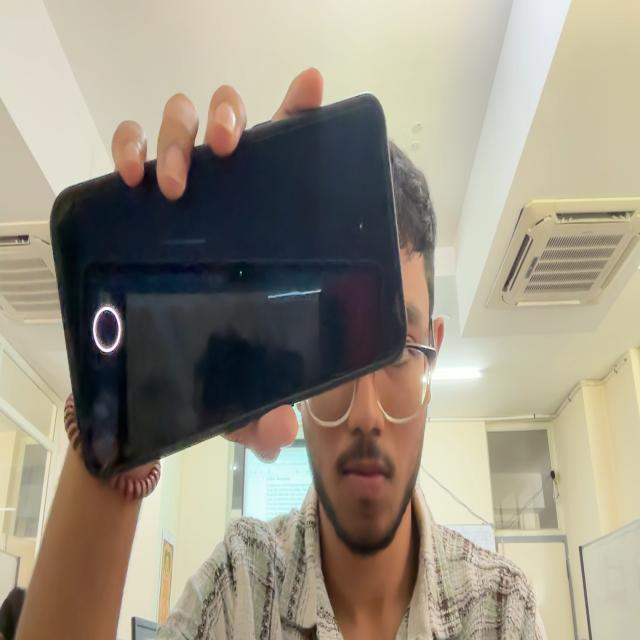Useful: (51, 95, 406, 479)
